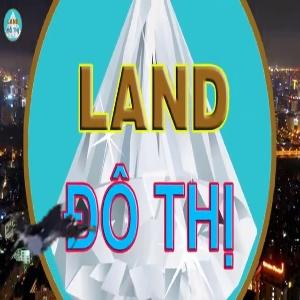drone: (3, 169, 107, 273)
